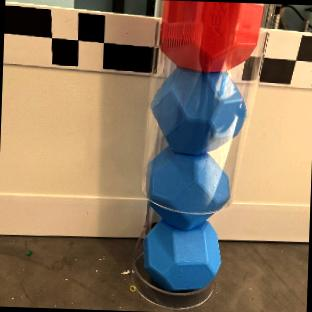V5_BLUE: (152, 67, 246, 152), (148, 150, 229, 227), (141, 220, 220, 291)
V5_RED: (159, 0, 262, 72)
